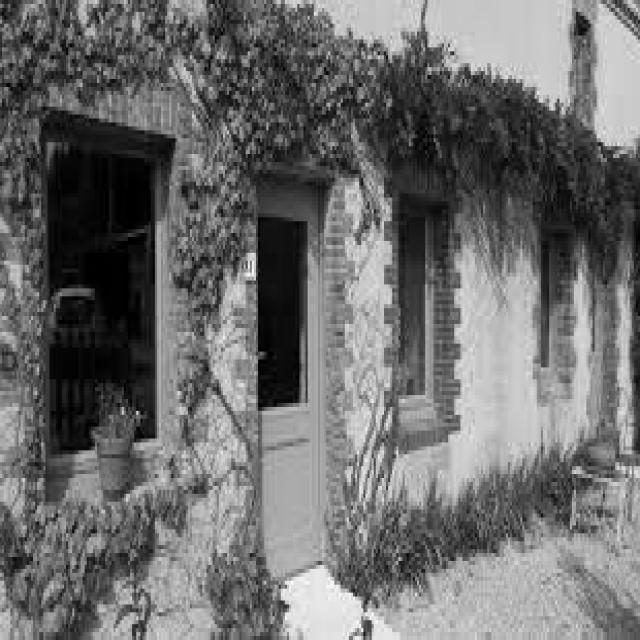door: (239, 144, 342, 610)
